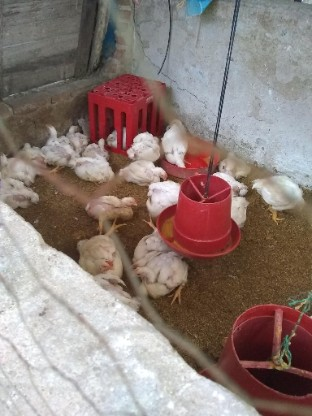Pollos: (258, 167, 306, 224), (132, 266, 188, 300), (36, 120, 76, 165), (85, 192, 137, 226), (141, 171, 181, 214), (129, 225, 167, 268), (70, 235, 119, 266), (161, 117, 191, 166), (0, 178, 40, 214), (0, 151, 36, 185), (212, 164, 249, 197), (68, 157, 113, 184), (121, 158, 168, 183), (126, 131, 161, 164), (218, 145, 251, 180), (219, 195, 248, 227), (21, 137, 43, 168), (105, 120, 128, 149), (83, 138, 109, 161), (65, 123, 86, 149), (77, 116, 89, 132)
